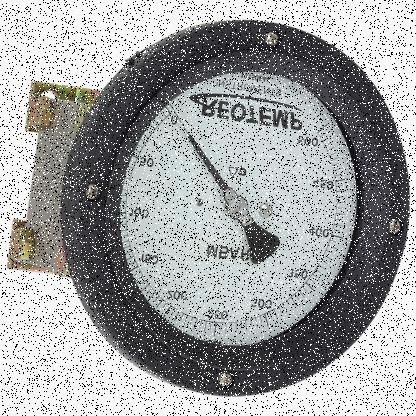needle: (168, 101, 230, 193)
